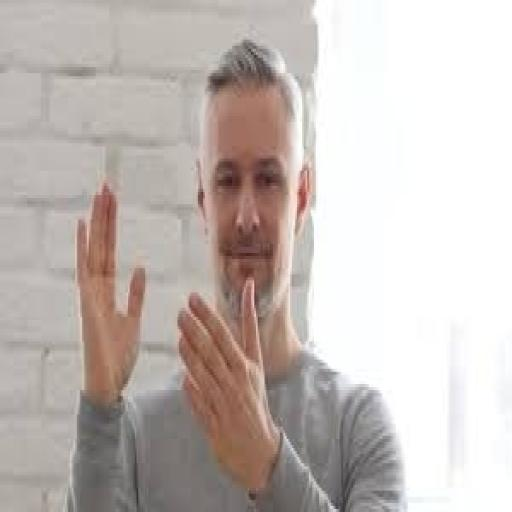clapping: (61, 33, 408, 509)
